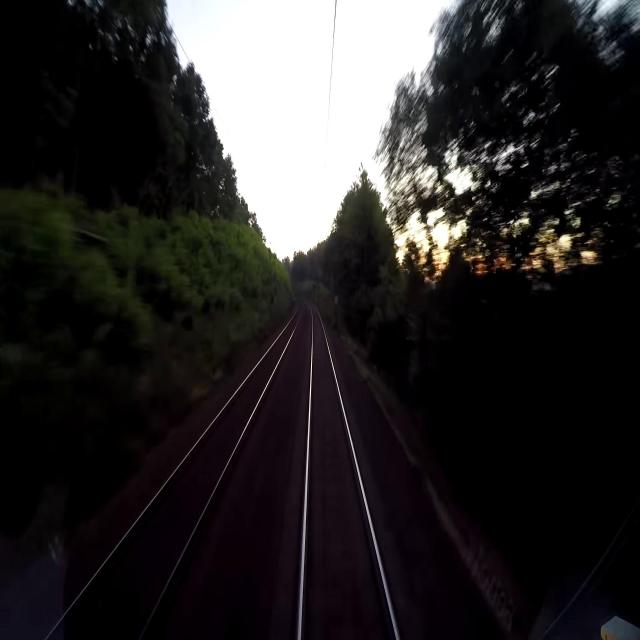rail-track: (49, 308, 301, 639), (302, 306, 395, 639)
